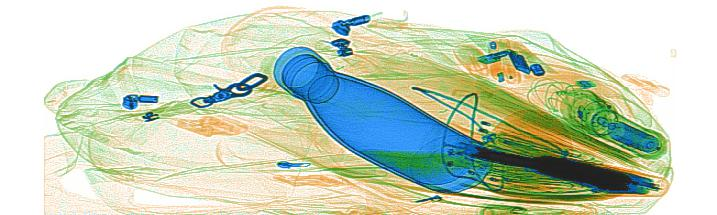battery: (605, 118, 659, 154)
